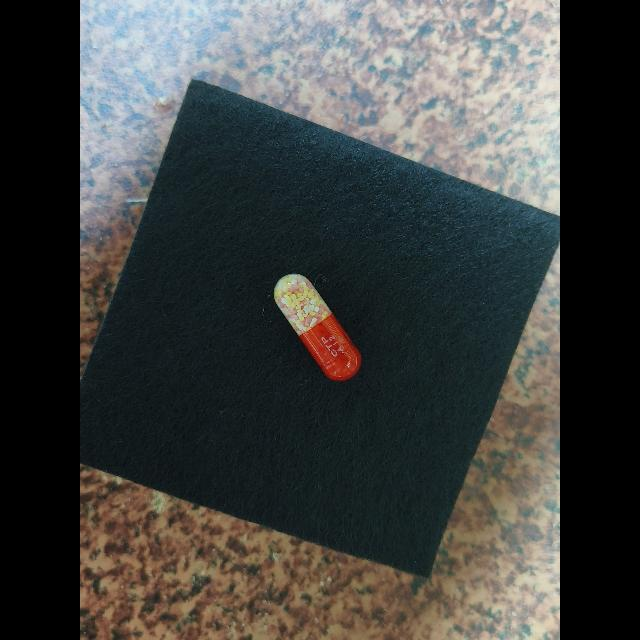Intact Capsule: (273, 273, 362, 381)
